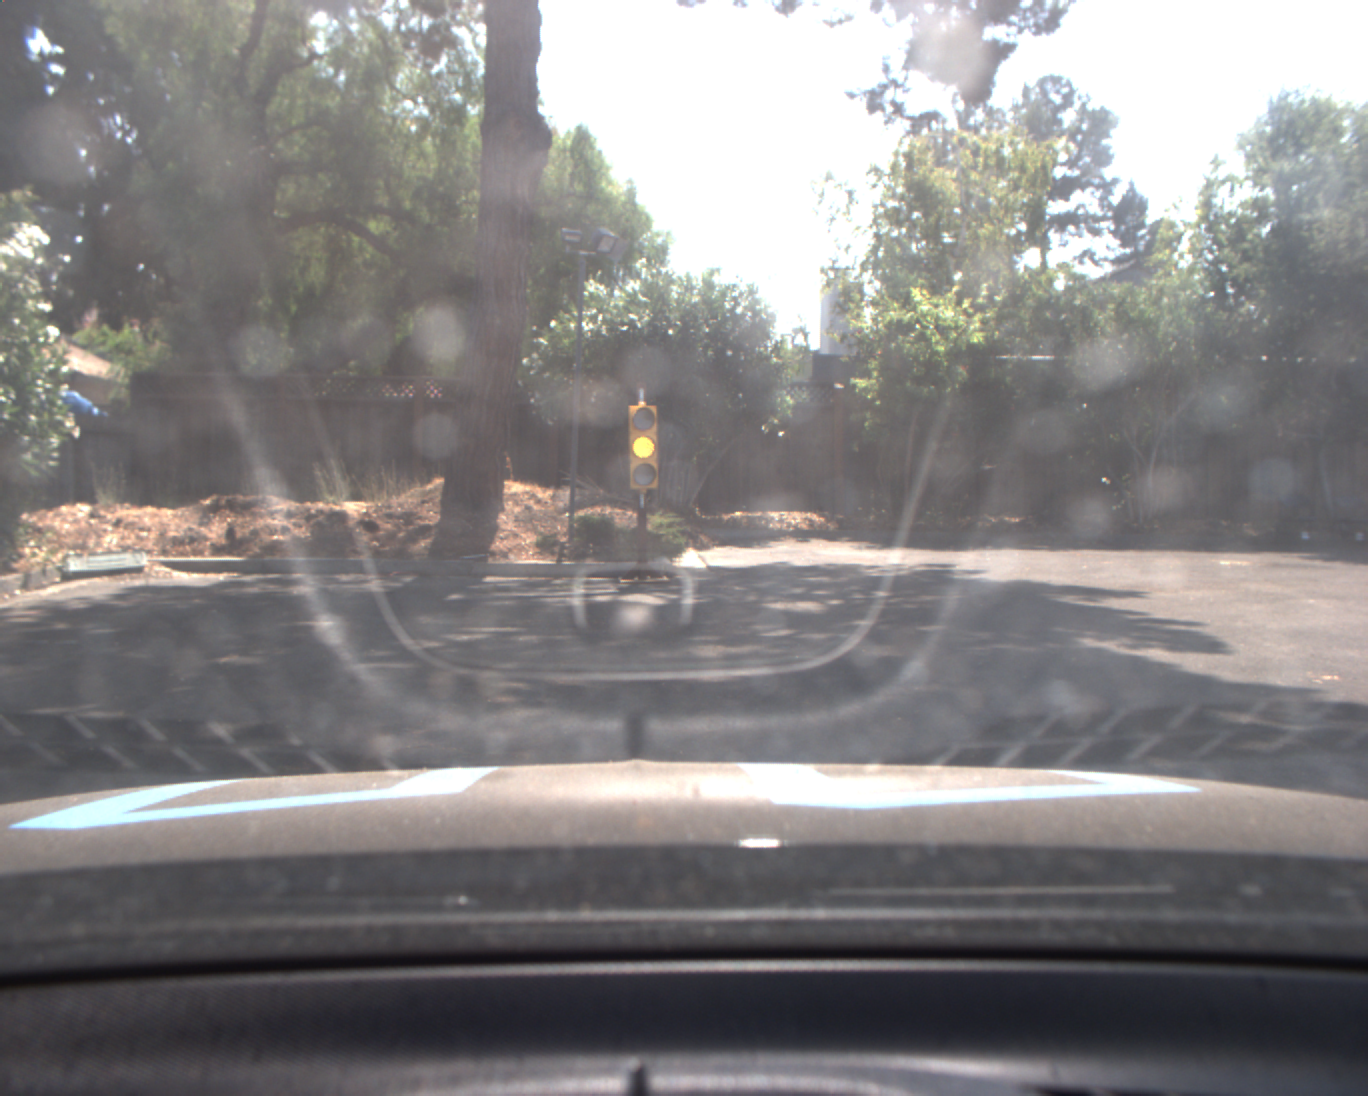yellow: (626, 404, 660, 491)
